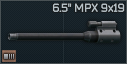MPX 9x19 6.5 inch barrel: (0, 0, 127, 64)
